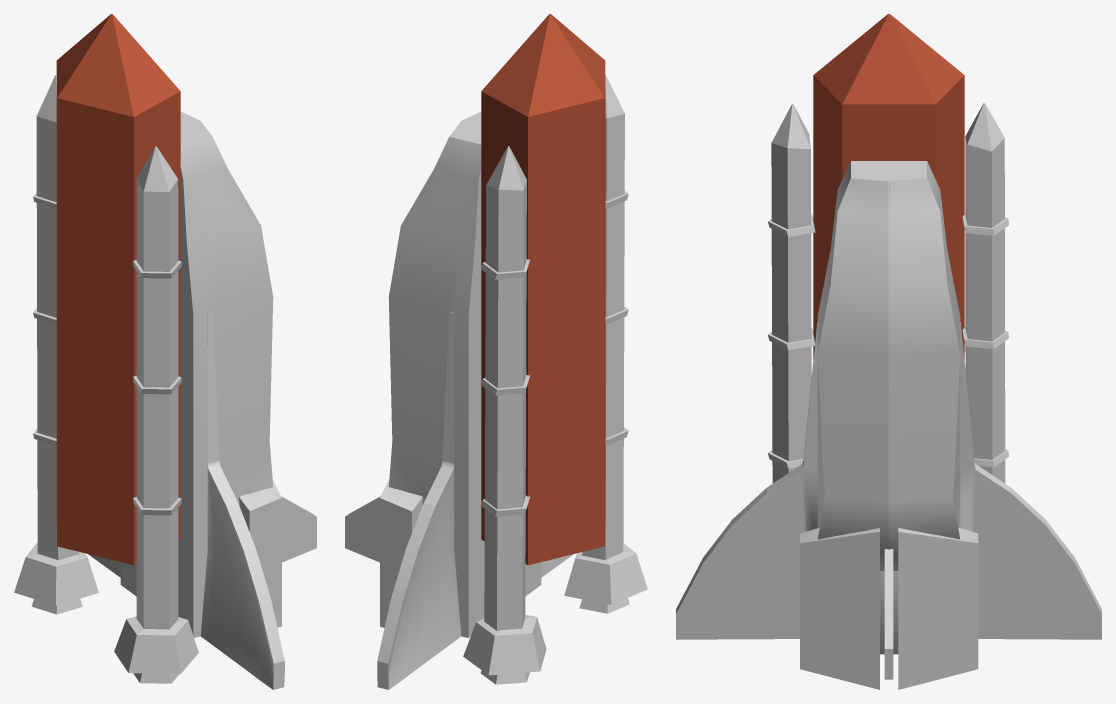
Rendered from Rocket4_updated_minus.fbx.
3 renders of one model, left to right at view 1: azimuth 30°, elevation 25°; view 2: azimuth 150°, elevation 25°; view 3: azimuth 270°, elevation 25°, orthographic. The views are drawn at different scales.
Parts seen in each view (by area): view 1: pCylinder10; view 2: pCylinder10; view 3: pCylinder10.
Boxes of the visible parts, box(x1,y1,x2,y2) form: pCylinder10: box(14, 14, 316, 689); pCylinder10: box(345, 14, 647, 689); pCylinder10: box(676, 14, 1101, 689).
Bounding box in the file's own units: 9 × 20.81 × 13.18.
